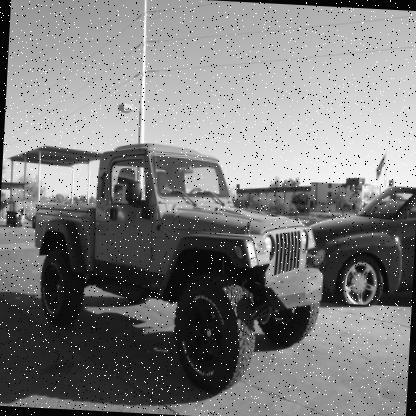Car: (304, 182, 415, 309), (288, 208, 296, 216)
